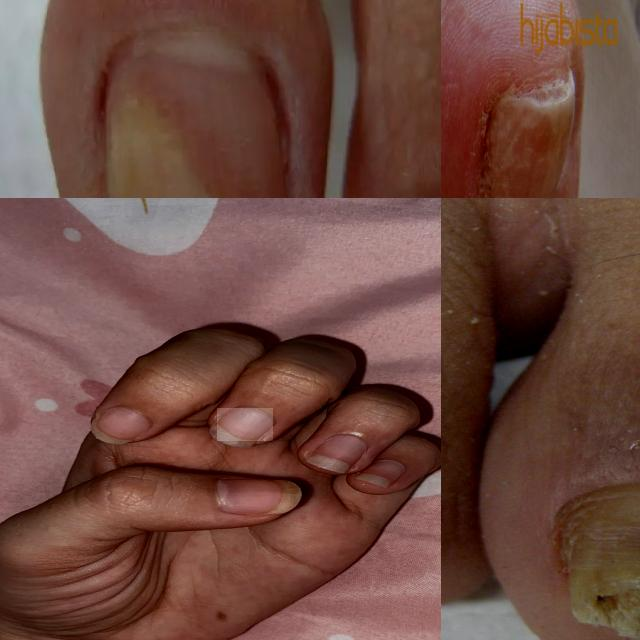diabetes: (103, 33, 287, 198), (482, 69, 576, 198), (556, 495, 640, 638)
sehat: (216, 479, 282, 515), (218, 408, 273, 441), (97, 406, 151, 439), (313, 434, 367, 466), (362, 460, 404, 481)
